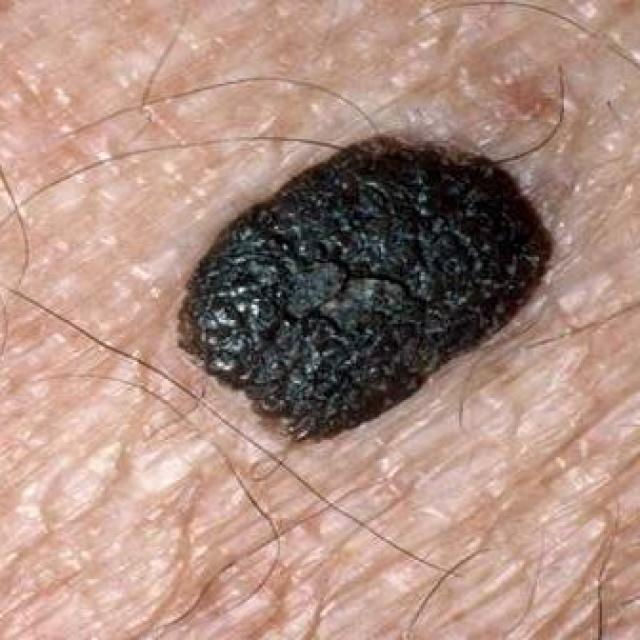Nao cancer: (181, 132, 559, 436)
